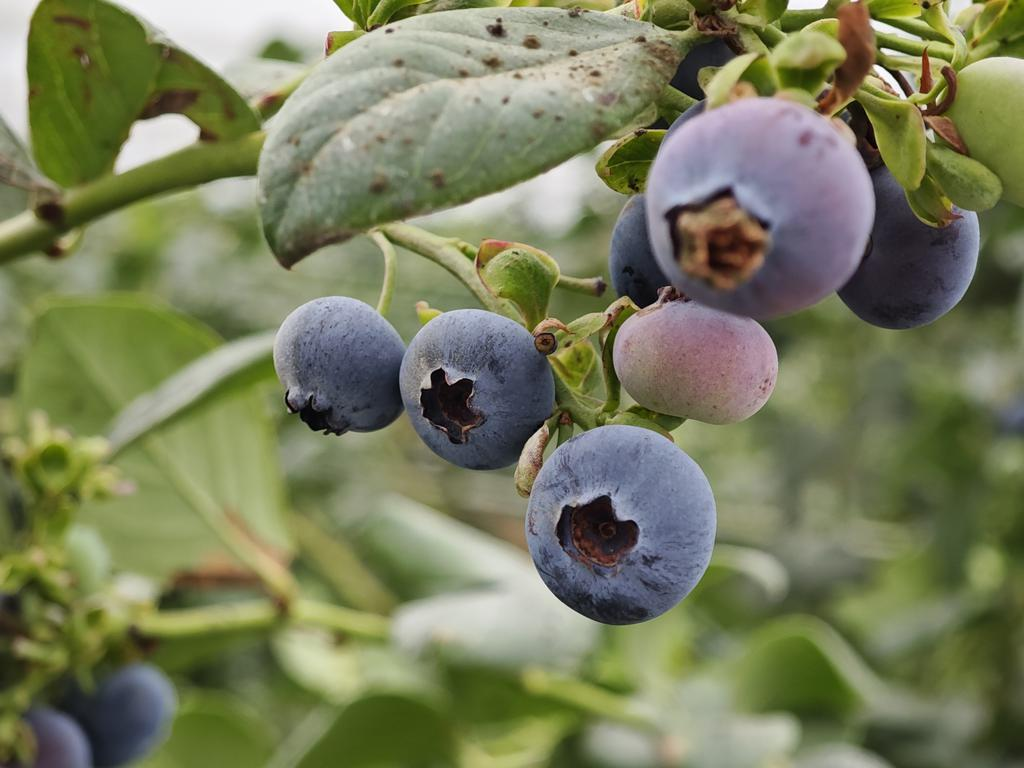RipeBlueBerry: (520, 422, 723, 629), (402, 308, 560, 472), (272, 292, 405, 435)
Semi-RipeBlueBerry: (640, 95, 877, 318), (610, 296, 782, 423)
